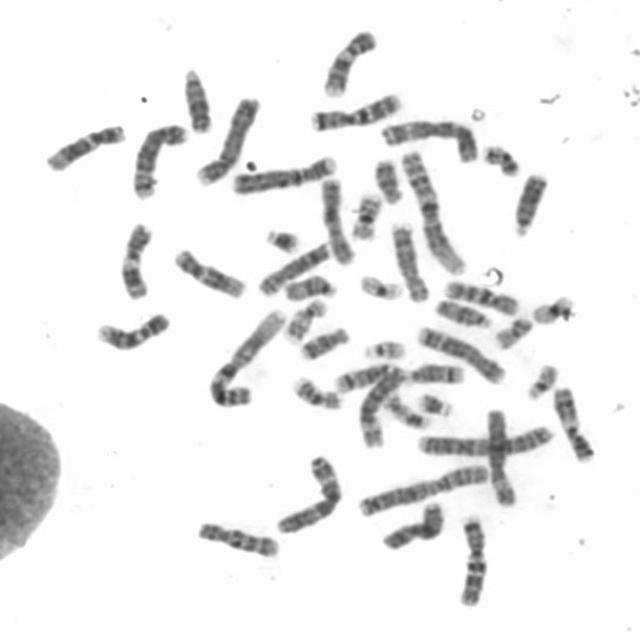A1: (398, 150, 469, 276), (205, 308, 288, 411)
A2: (357, 462, 491, 518), (414, 423, 556, 459)
A3: (272, 455, 345, 535), (378, 118, 480, 164)
B4: (193, 94, 262, 188), (231, 153, 338, 196)
B5: (415, 322, 508, 385), (127, 122, 190, 202)
C10: (194, 519, 283, 561), (438, 278, 522, 318)
C11: (551, 386, 599, 466), (120, 220, 153, 302)
C12: (41, 122, 129, 174), (173, 250, 250, 302)
C6: (358, 366, 406, 451), (486, 408, 517, 506)
C7: (307, 91, 402, 133), (457, 512, 489, 606)
C8: (255, 240, 331, 298), (388, 222, 431, 304)
C9: (318, 26, 381, 101), (96, 310, 172, 354)
D13: (177, 65, 216, 135), (510, 171, 548, 239)
D14: (331, 363, 396, 396), (405, 362, 466, 386)
D15: (432, 298, 492, 330), (283, 272, 339, 304)
E16: (291, 375, 345, 412), (349, 192, 383, 243)
E17: (281, 297, 330, 346), (379, 390, 431, 431)
E18: (296, 326, 350, 363), (371, 157, 404, 206)
F19: (528, 293, 577, 328), (359, 272, 406, 302)
F20: (492, 316, 536, 352), (480, 144, 520, 179)
G21: (412, 392, 458, 419), (264, 228, 304, 256)
G22: (524, 362, 562, 403), (360, 338, 407, 362)
X: (318, 175, 358, 267), (378, 501, 445, 553)
